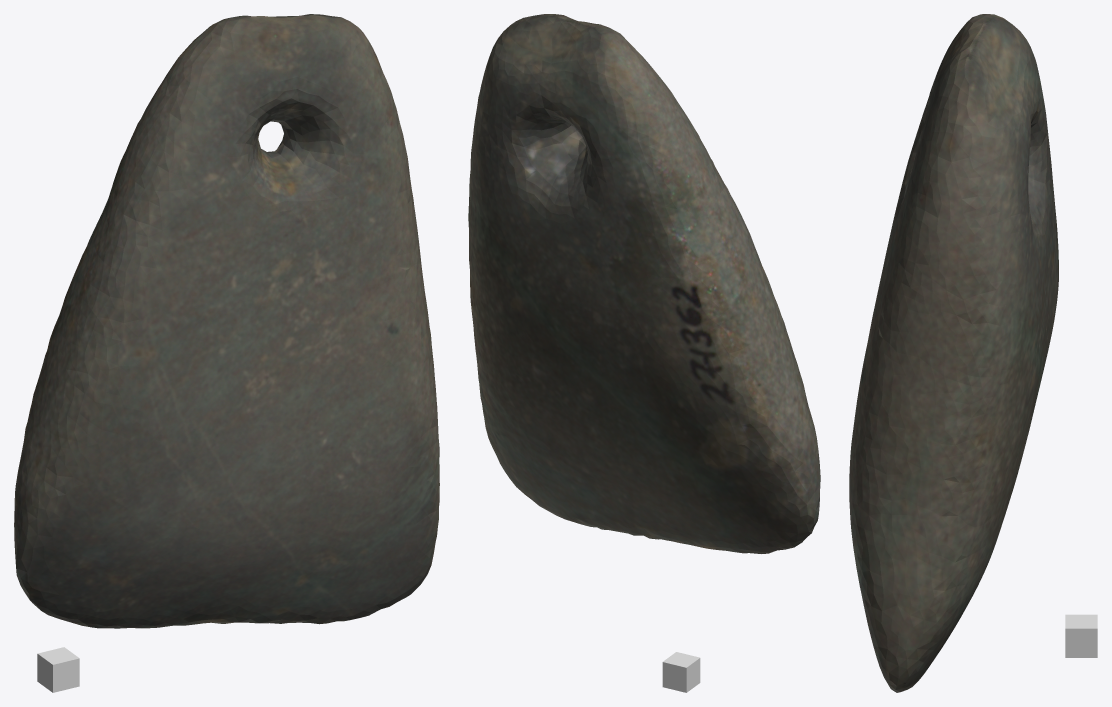
Rendered from Piccola ascia.glb.
3 renders of one model, left to right at view 1: azimuth 30°, elevation 25°; view 2: azimuth 150°, elevation 25°; view 3: azimuth 270°, elevation 25°, orthographic. The views are drawn at different scales.
Parts seen in each view (by area): view 1: Piccola ascia, Cube; view 2: Piccola ascia, Cube; view 3: Piccola ascia, Cube.
Boxes of the visible parts, left/top/right/bottom form: Piccola ascia: left=14, top=14, right=439, bottom=628; Cube: left=37, top=647, right=79, bottom=692; Piccola ascia: left=468, top=14, right=820, bottom=553; Cube: left=662, top=652, right=700, bottom=692; Piccola ascia: left=849, top=14, right=1058, bottom=692; Cube: left=1065, top=614, right=1097, bottom=657.
Bounding box in the file's own units: 29.06 × 47.49 × 15.23.
Materials: 2 (1 with a texture image).
